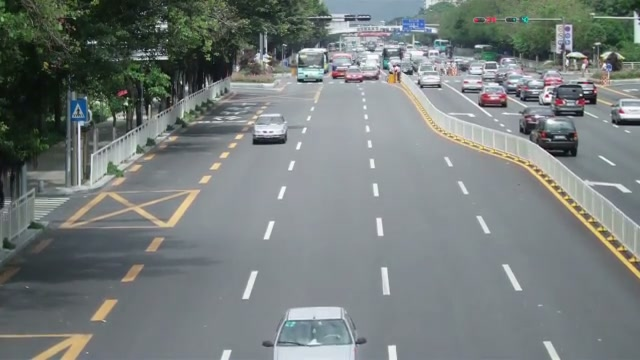bus: (297, 48, 327, 83)
car: (264, 306, 366, 359), (531, 116, 579, 156), (252, 113, 289, 144), (551, 85, 585, 117), (518, 110, 552, 134), (610, 98, 640, 125), (479, 85, 508, 107), (516, 79, 544, 101), (418, 69, 441, 88), (461, 77, 483, 93), (345, 67, 364, 83)
truck: (296, 48, 326, 83)
